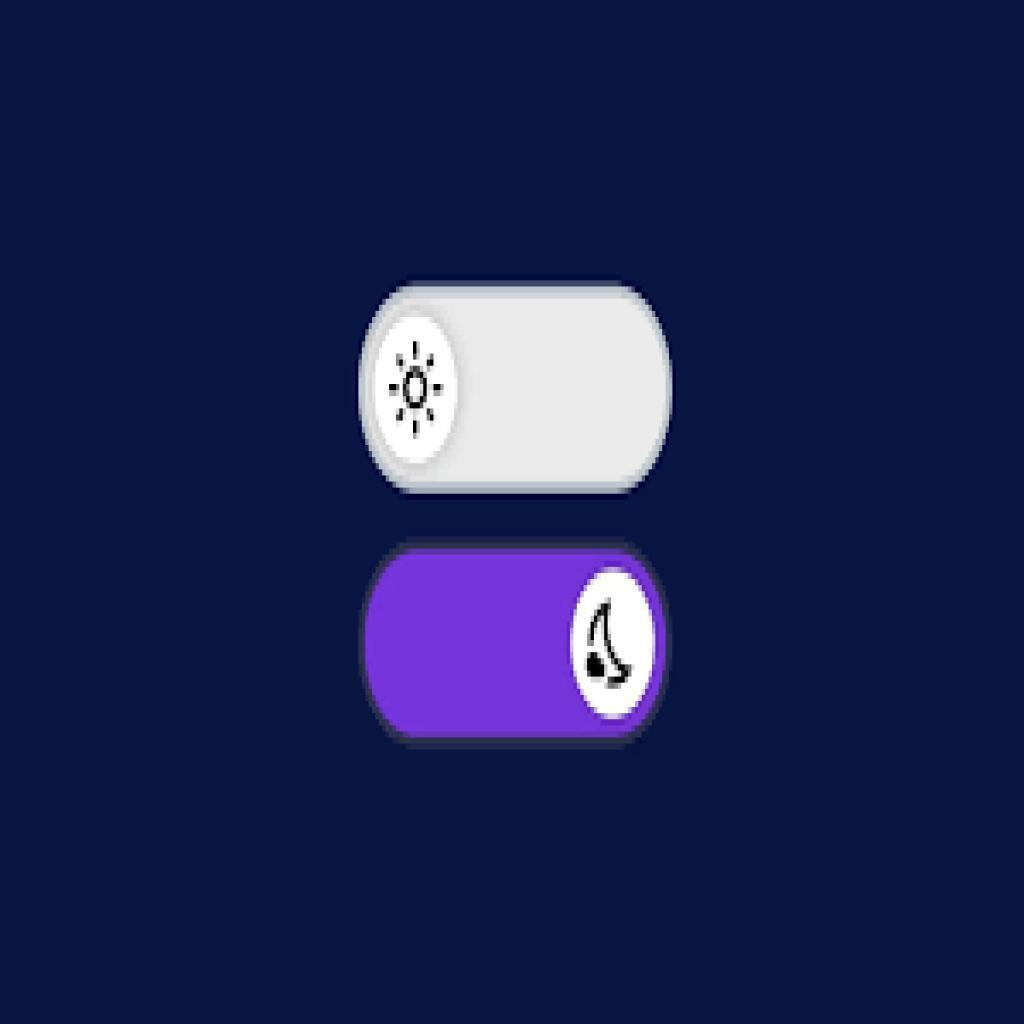switch: (358, 285, 674, 491), (363, 548, 668, 741)
